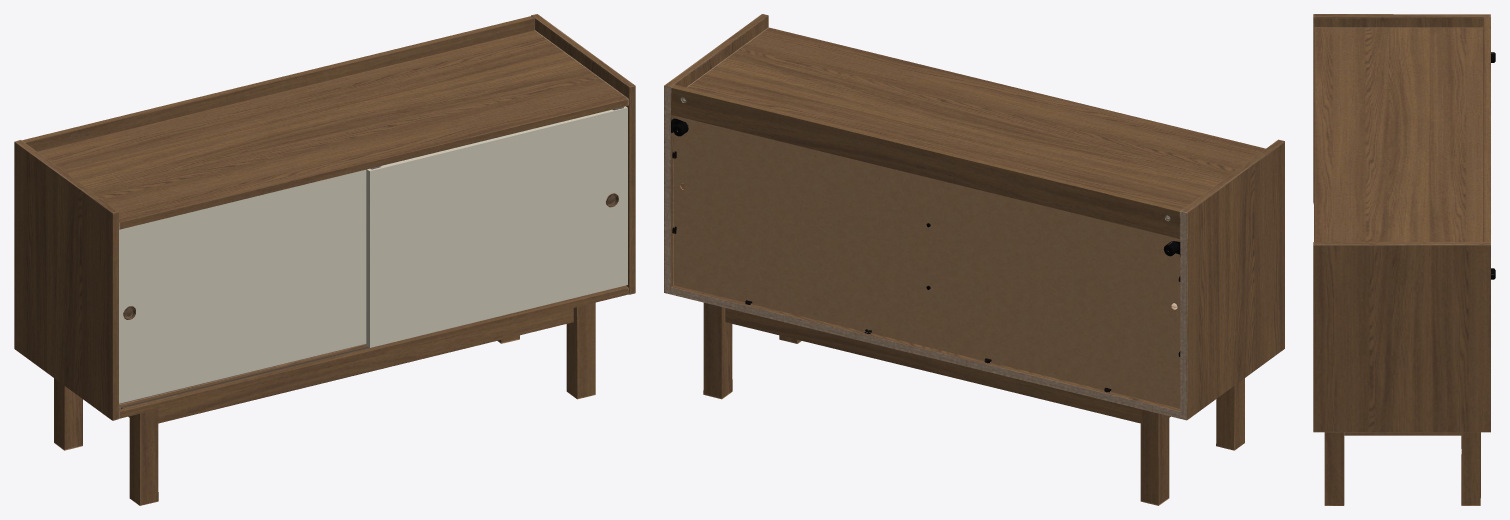
The picture shows the model from 3 angles, left to right: view 1: azimuth 30°, elevation 25°; view 2: azimuth 150°, elevation 25°; view 3: azimuth 270°, elevation 25°; orthographic projection. The views are drawn at different scales.
Parts seen in each view (by area): view 1: ASY_ART_90595888_S01_NV01; view 2: ASY_ART_90595888_S01_NV01; view 3: ASY_ART_90595888_S01_NV01.
Part boxes in pixels (left/top/right/bottom): ASY_ART_90595888_S01_NV01: left=14, top=14, right=635, bottom=505; ASY_ART_90595888_S01_NV01: left=664, top=14, right=1284, bottom=505; ASY_ART_90595888_S01_NV01: left=1313, top=14, right=1495, bottom=505.
Bounding box in the file's own units: 1.4 × 0.7804 × 0.467.
Materials: 1 (1 with a texture image).
